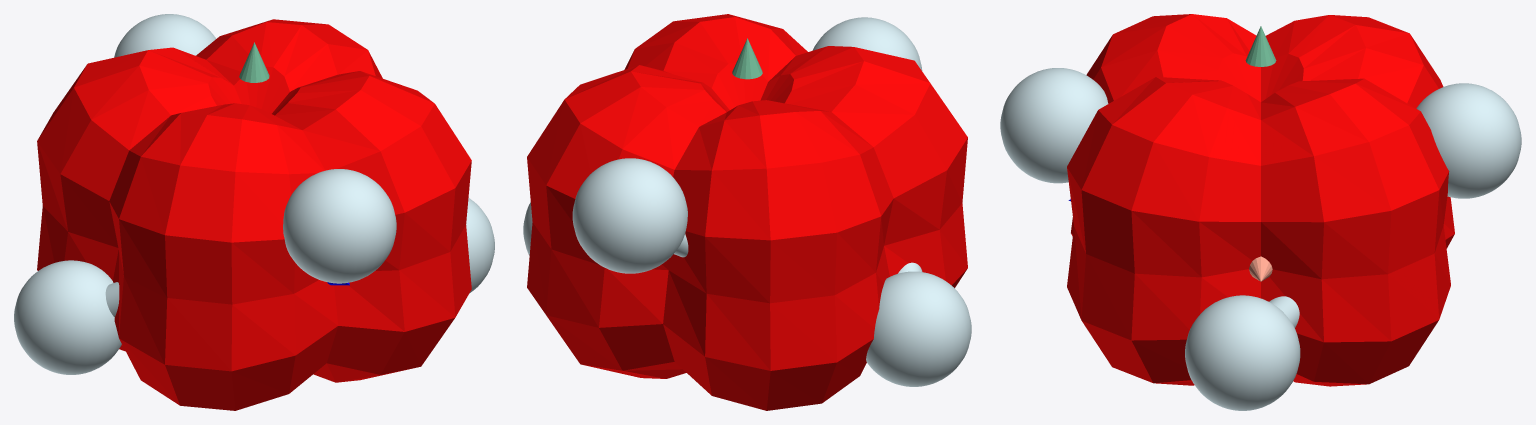
3 views of the same model, side by side, from view 1: azimuth 30°, elevation 25°; view 2: azimuth 150°, elevation 25°; view 3: azimuth 270°, elevation 25° (orthographic).
Parts seen in each view (by area): view 1: Renderer Node (×2); view 2: Renderer Node (×2); view 3: Renderer Node (×2).
Part boxes in pixels (x1=…): Renderer Node (×2): x1=14, y1=14, x2=494, y2=410; Renderer Node (×2): x1=523, y1=14, x2=971, y2=410; Renderer Node (×2): x1=1000, y1=14, x2=1521, y2=410.
Bounding box in the file's own units: 2.7 × 1.84 × 2.7.
